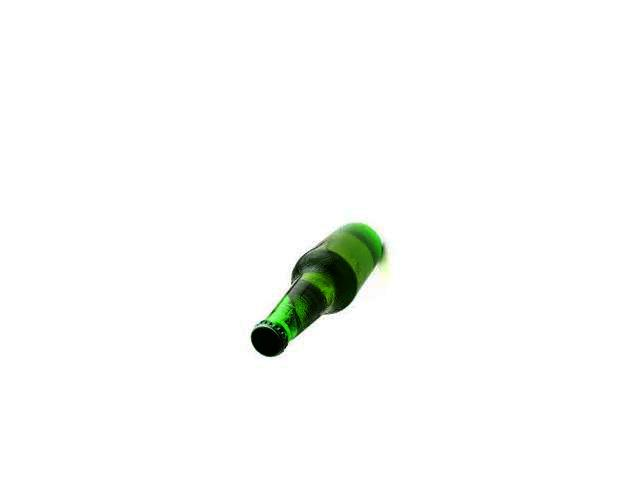beer: (251, 222, 383, 357)
